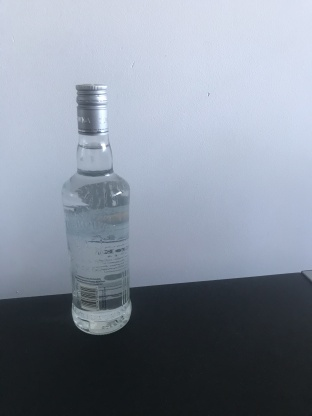nakretka: (73, 82, 110, 136)
